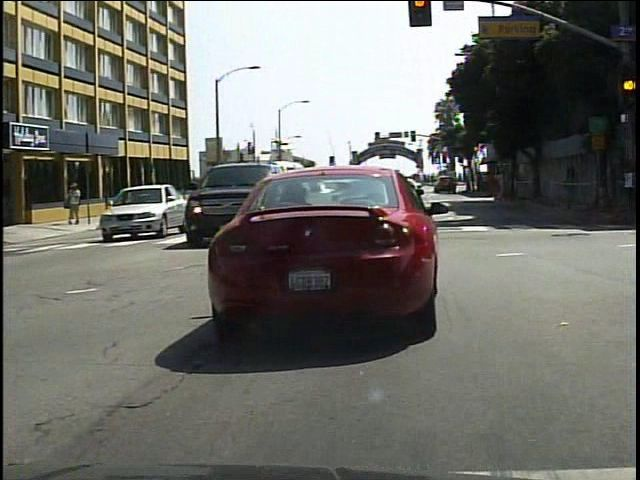person: (66, 178, 88, 226)
